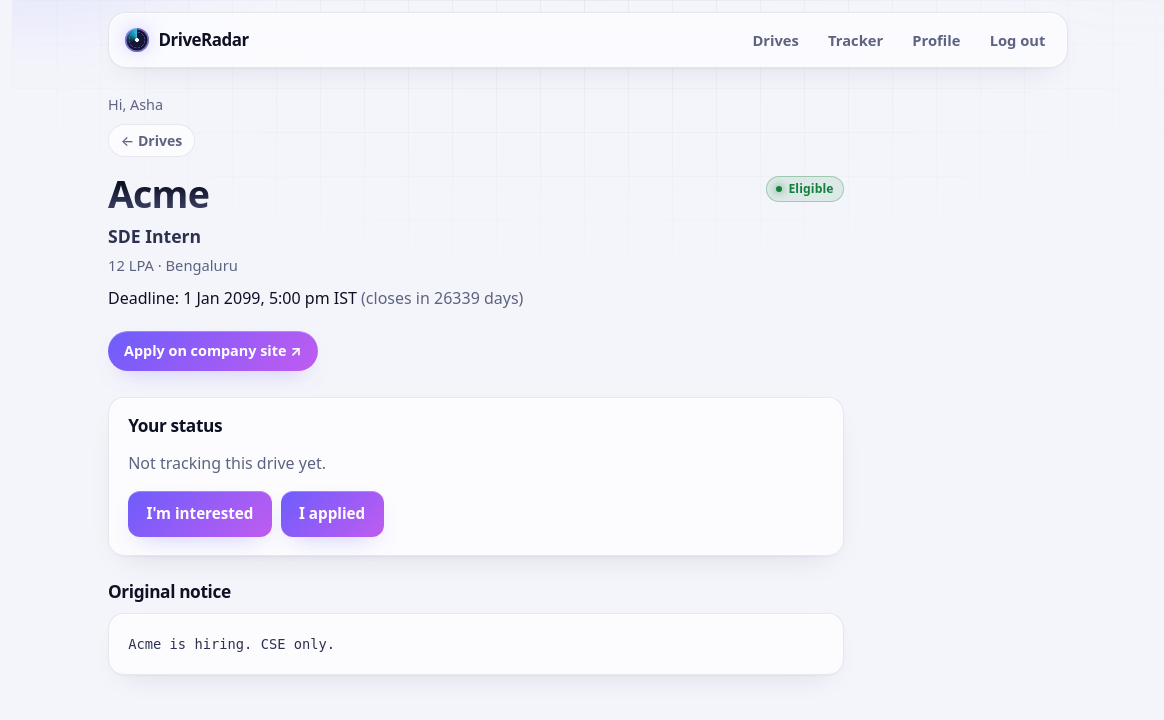
Test: drive page › starts tracking with the moves the server offers, then shows the new ones
The width and height of the screenshot is (1164, 720).
Click the button "I applied" at (332, 514), box [281,491,384,537]
(page scrolled)
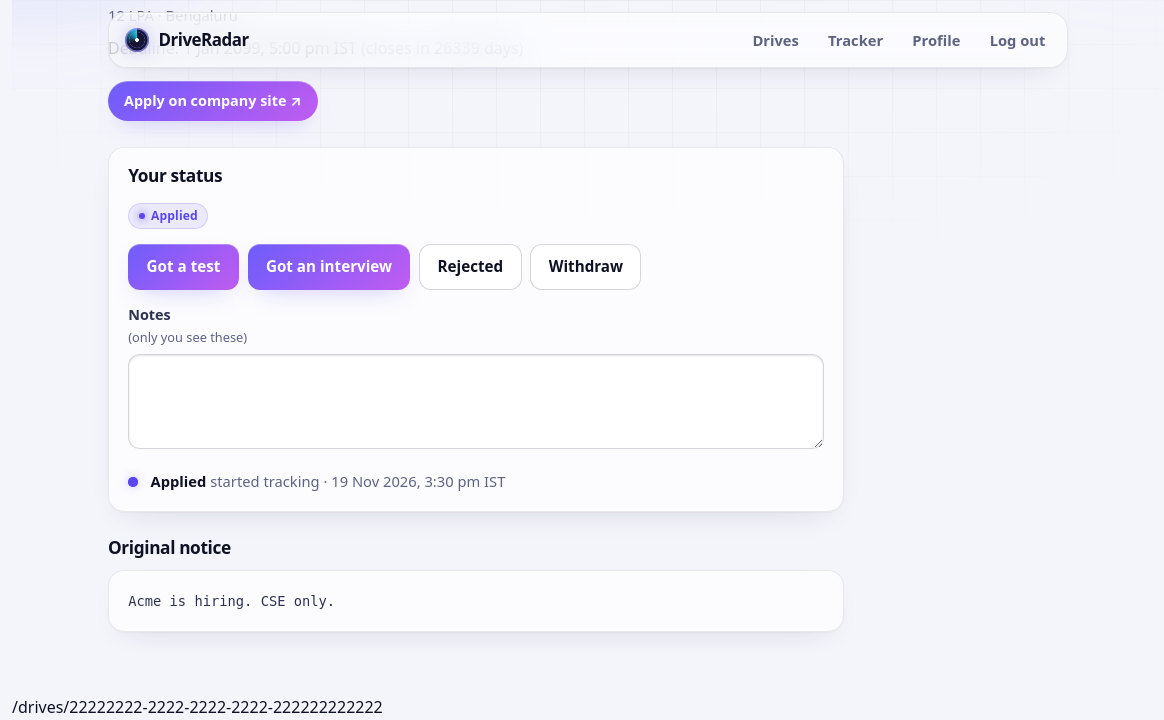
Check: the 1st text "Applied" is shown, box [128,204,208,229]
Check: the text "started tracking · 19 Nov 2026, 3:30 pm IST" is shown, box [210,471,505,491]
